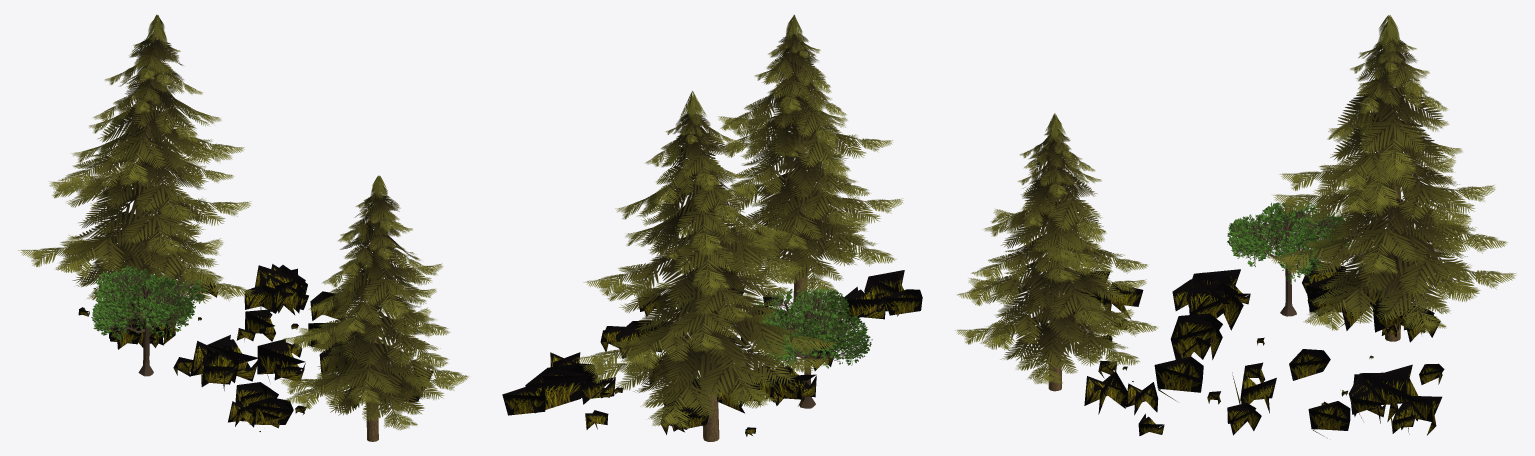
The picture shows the model from 3 angles, left to right: view 1: azimuth 30°, elevation 25°; view 2: azimuth 150°, elevation 25°; view 3: azimuth 270°, elevation 25°; orthographic projection. The views are drawn at different scales.
Parts seen in each view (by area): view 1: Low Poly Stylized 2D Grass.1246; view 2: Low Poly Stylized 2D Grass.1246; view 3: Low Poly Stylized 2D Grass.1246.
Part boxes in pixels (box(x1,y1,x2,y2)): Low Poly Stylized 2D Grass.1246: box(18, 14, 468, 441); Low Poly Stylized 2D Grass.1246: box(502, 15, 922, 441); Low Poly Stylized 2D Grass.1246: box(954, 15, 1516, 438).
Bounding box in the file's own units: 12.18 × 13.1 × 19.58.
5 materials, 4 textured.
